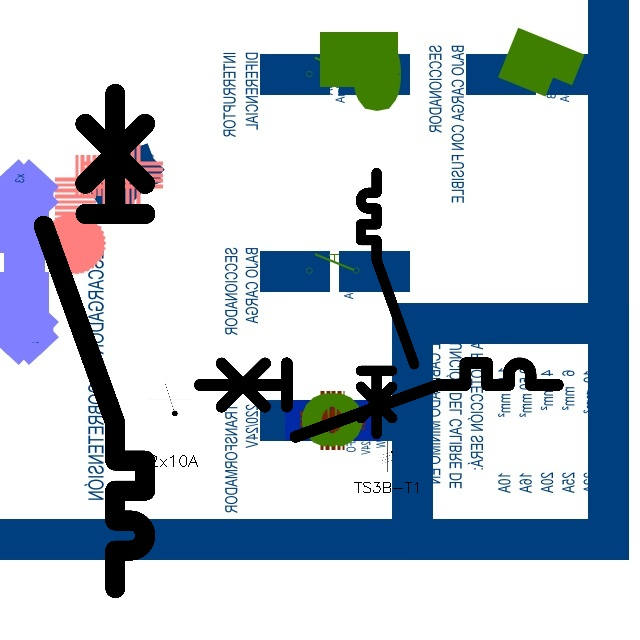interruptor_termomagnetico: (31, 81, 158, 601), (190, 354, 567, 446), (354, 166, 421, 441)
